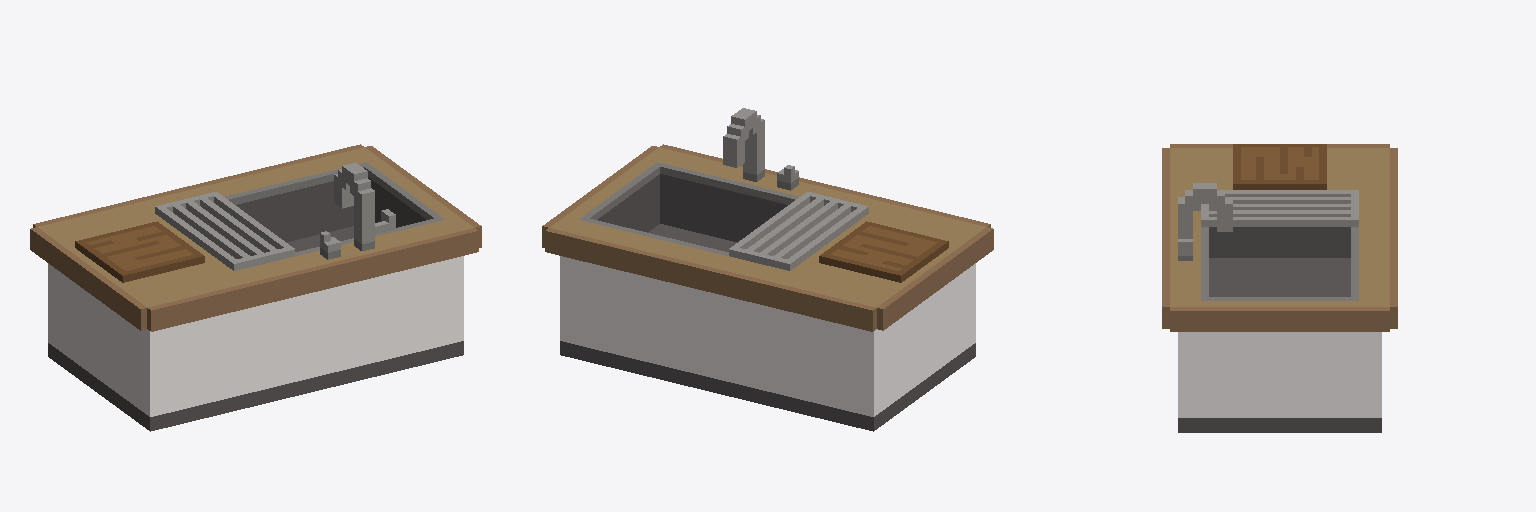
3 renders of one model, left to right at view 1: azimuth 30°, elevation 25°; view 2: azimuth 150°, elevation 25°; view 3: azimuth 270°, elevation 25°, orthographic.
Parts seen in each view (by area): view 1: object 1; view 2: object 1; view 3: object 1.
Boxes of the visible parts, x1=… form: object 1: x1=30, y1=144, x2=481, y2=431; object 1: x1=542, y1=108, x2=993, y2=431; object 1: x1=1162, y1=144, x2=1397, y2=432.
Size of the model in its own units: 5 by 2.8 by 3.
1 materials, 1 textured.